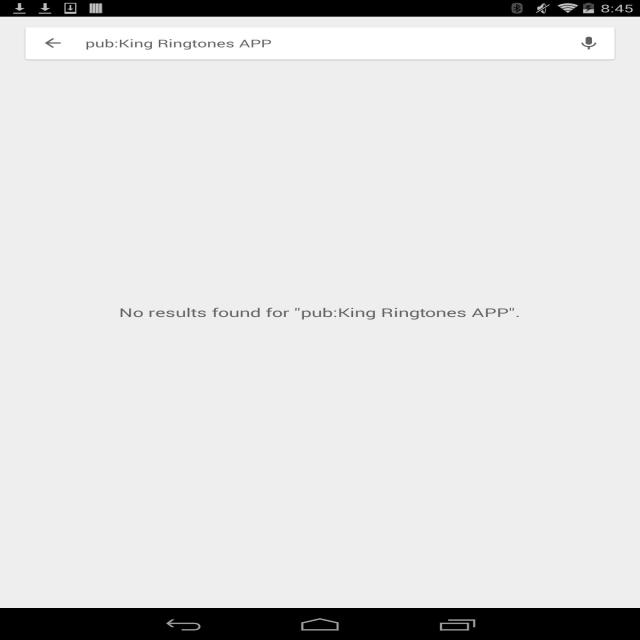button: (575, 33, 603, 54), (36, 34, 66, 53)
field: (24, 28, 613, 59)
label: (82, 36, 272, 53)
text: (118, 306, 522, 322)
